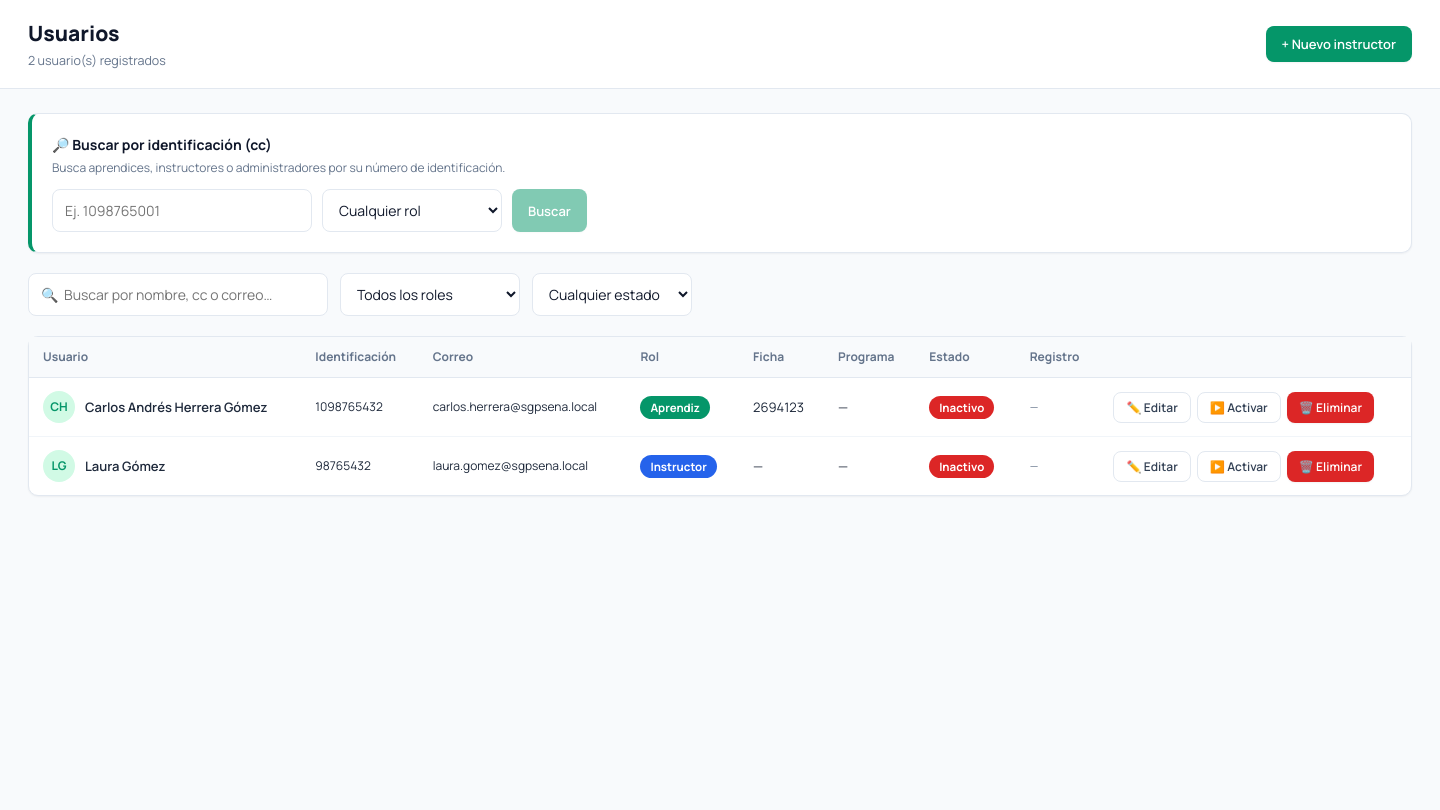
Test: UsuariosPage › permite abrir el modal de nuevo usuario y valida cédula inválida al crear
The width and height of the screenshot is (1440, 810).
Click the button "+ Nuevo instructor": (1339, 44) [1266, 26, 1412, 62]
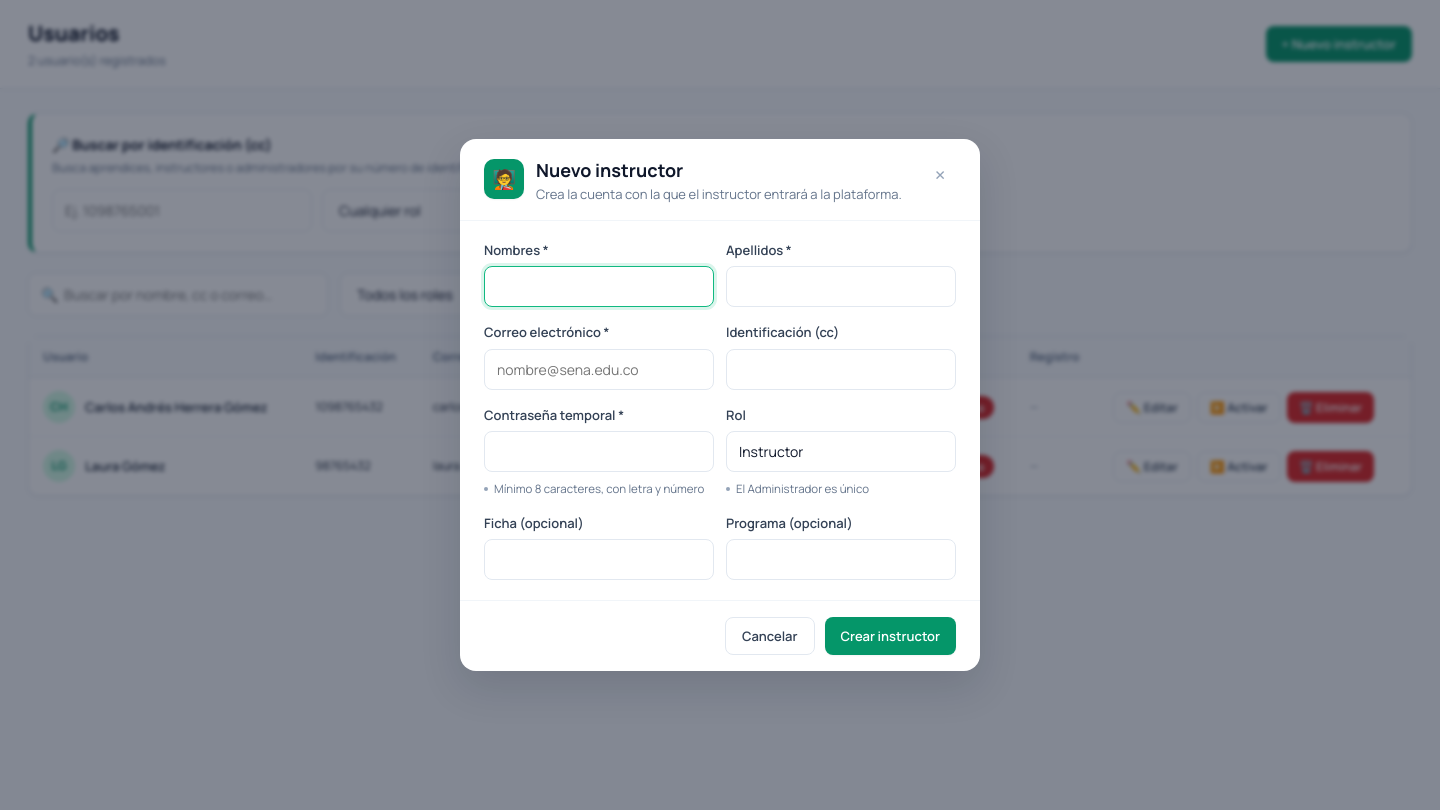
Expected: the heading "Nuevo instructor" is shown, [536, 158, 683, 182]
Note: Rellenamos datos con cédula inválida (4 dígitos)
In the field labelled "Nombres *": (599, 287) [484, 266, 714, 308], type "Pedro"
In the field labelled "Apellidos *": (841, 287) [726, 266, 956, 308], type "Pérez"
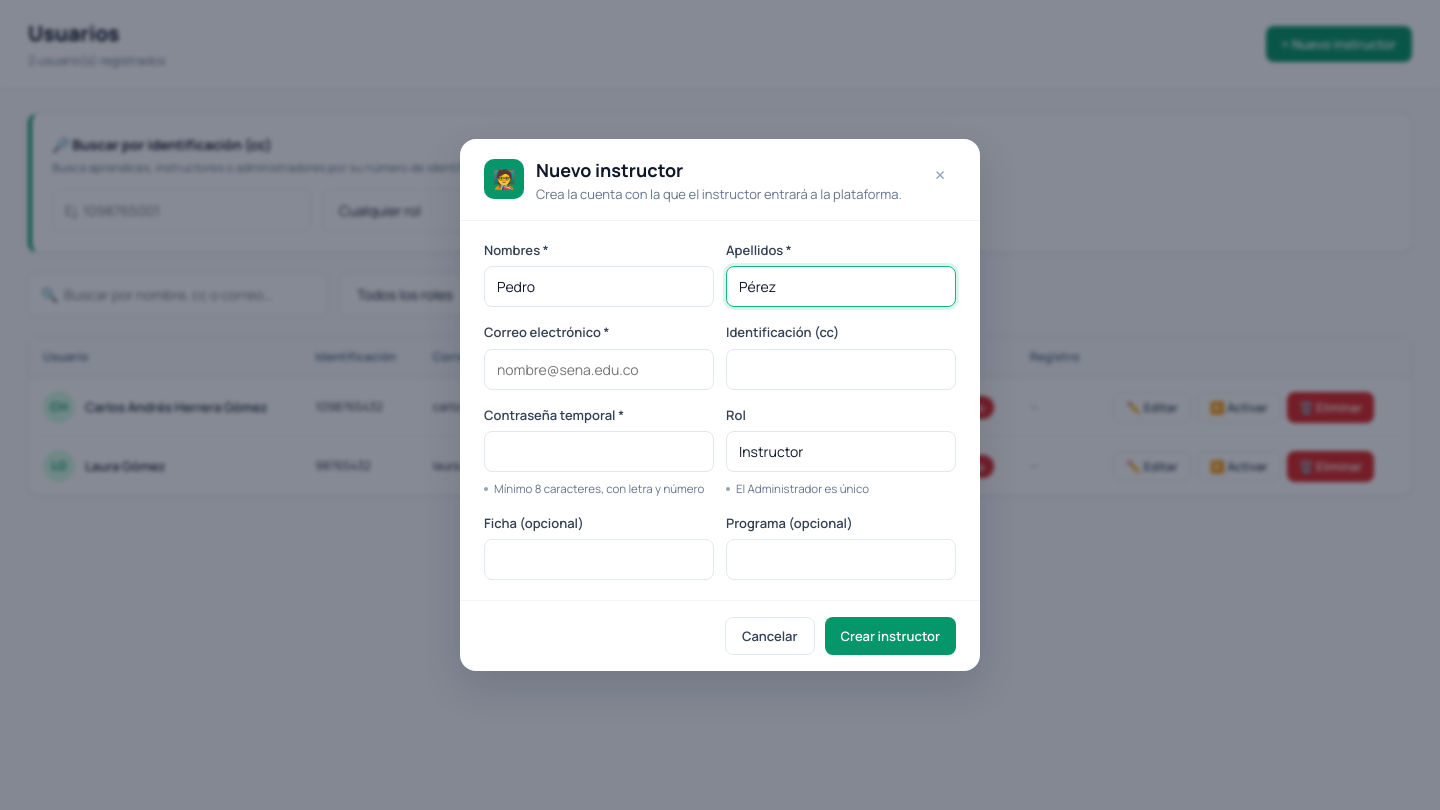
In the field labelled "Correo electrónico *": (599, 370) [484, 349, 714, 390], type "pedro@sena.edu.co"
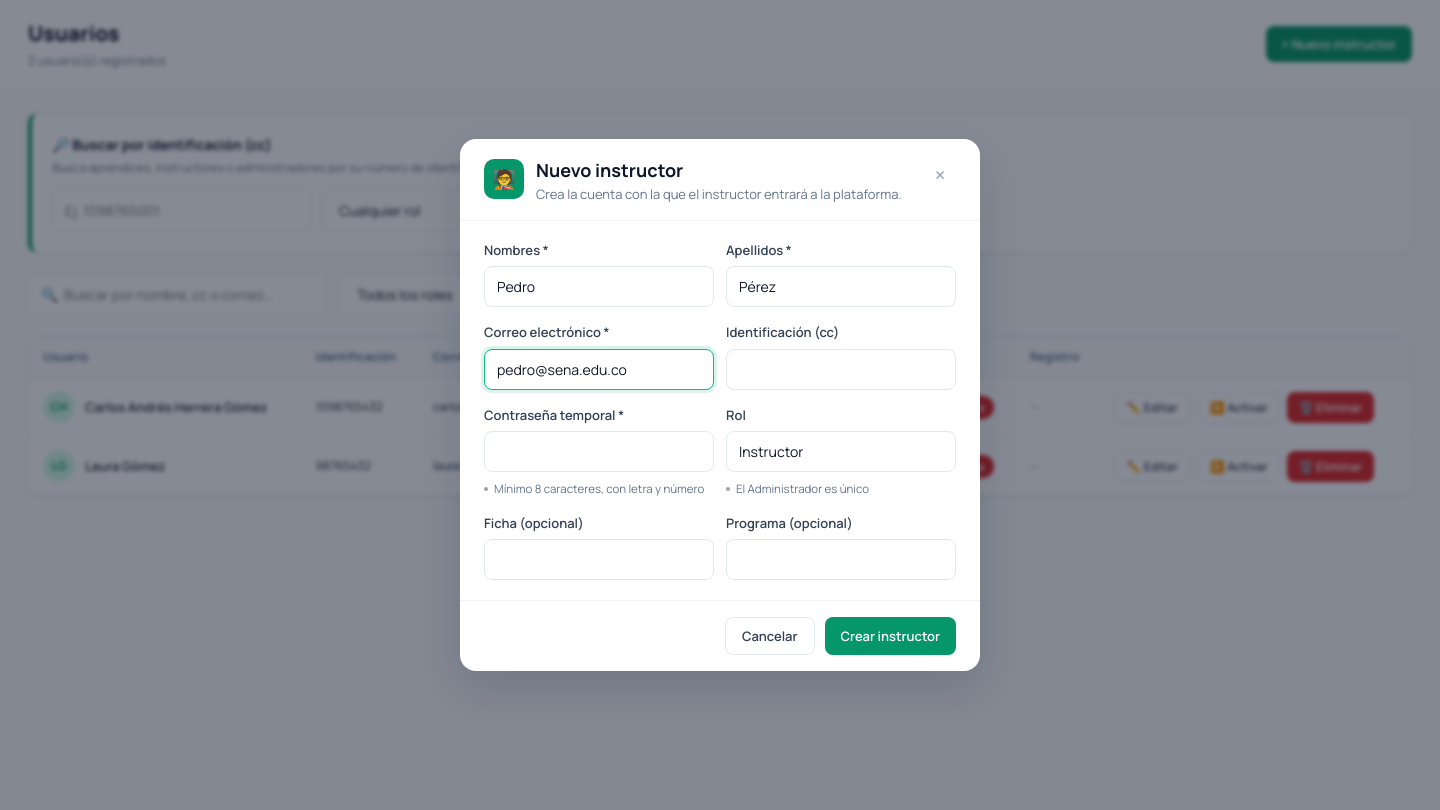
In the field labelled "Identificación (cc)": (841, 370) [726, 349, 956, 390], type "1234"
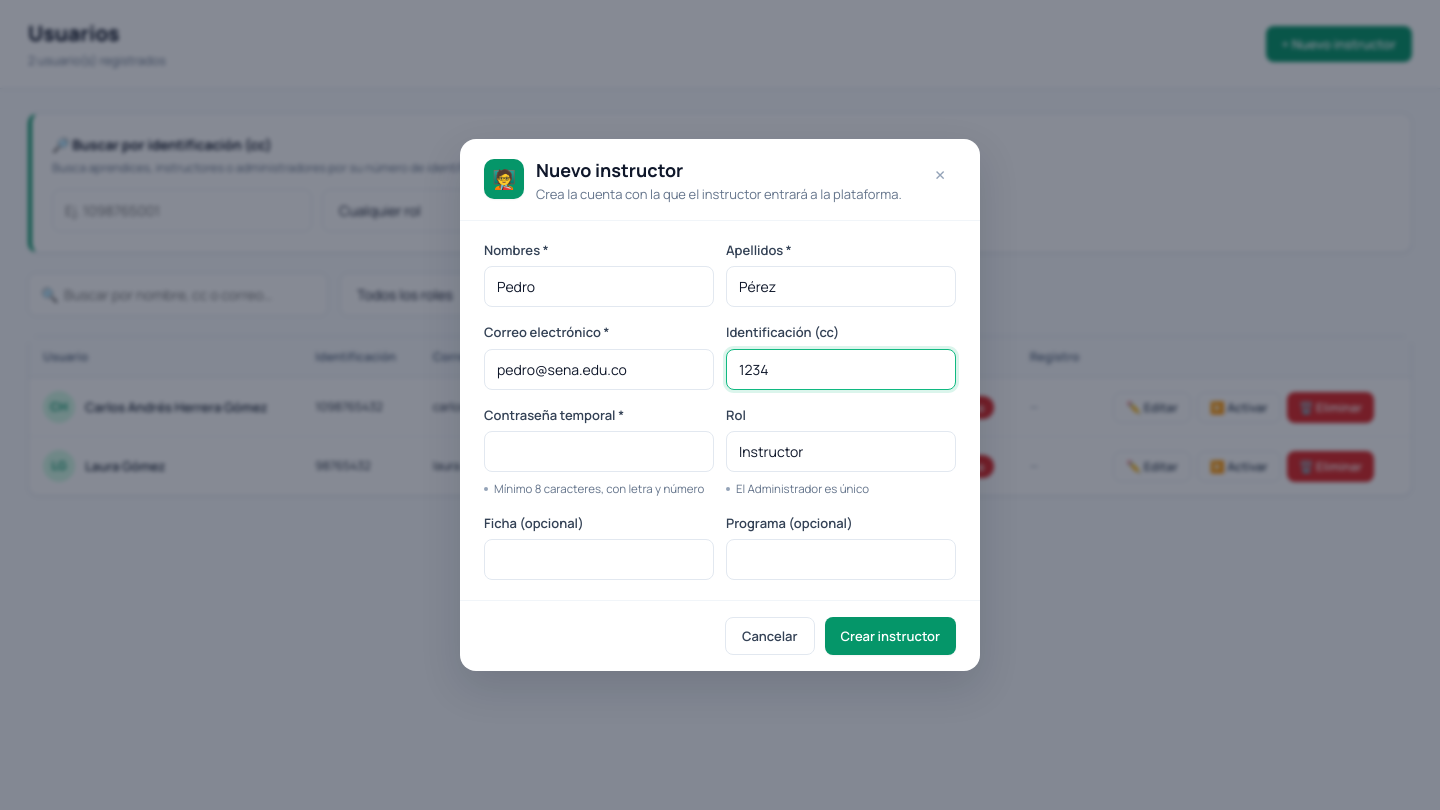
In the password field labelled "Contraseña temporal *": (599, 452) [484, 432, 714, 472], type "Sena2026*"
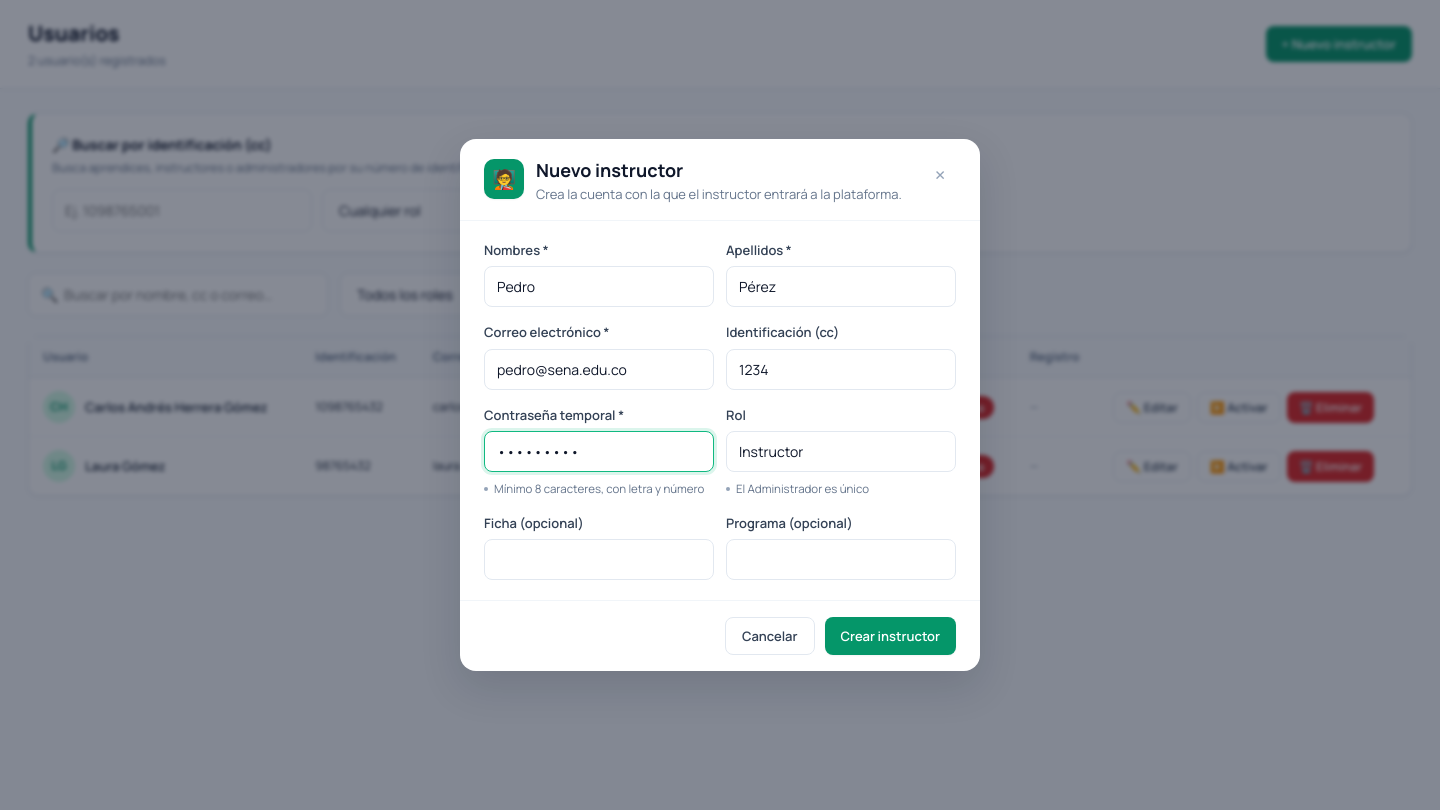
Click the button "Crear instructor": (890, 636) [824, 617, 956, 655]
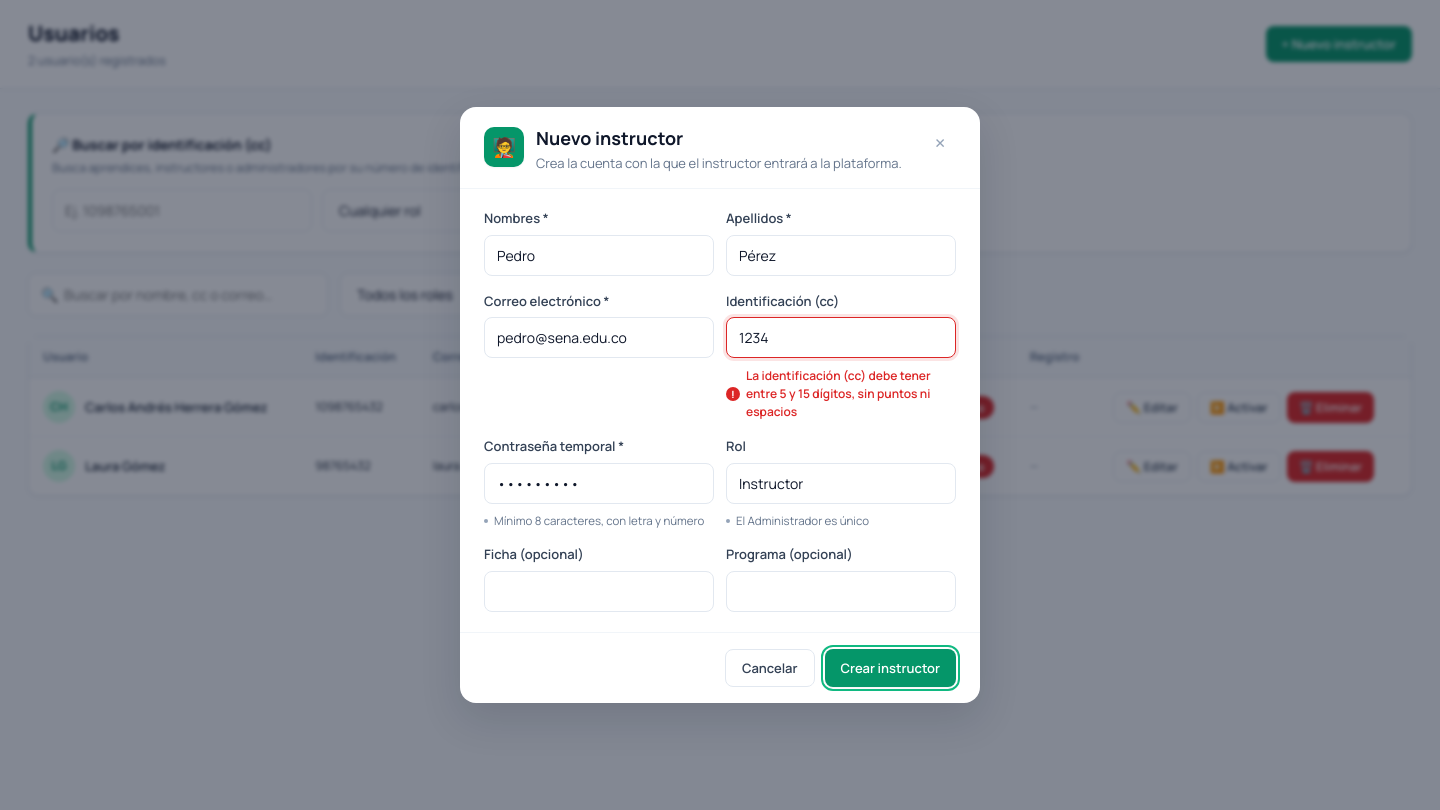
Expected: the text "La identificación (cc) debe tener entre 5 y 15 dígitos" is shown, [746, 368, 931, 420]
